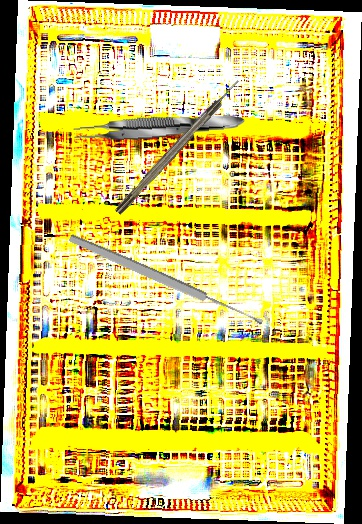Hook Surgical: (113, 77, 243, 216)
Surgical Spoon: (67, 231, 265, 330)
Tissue Forceps: (72, 110, 246, 145)
